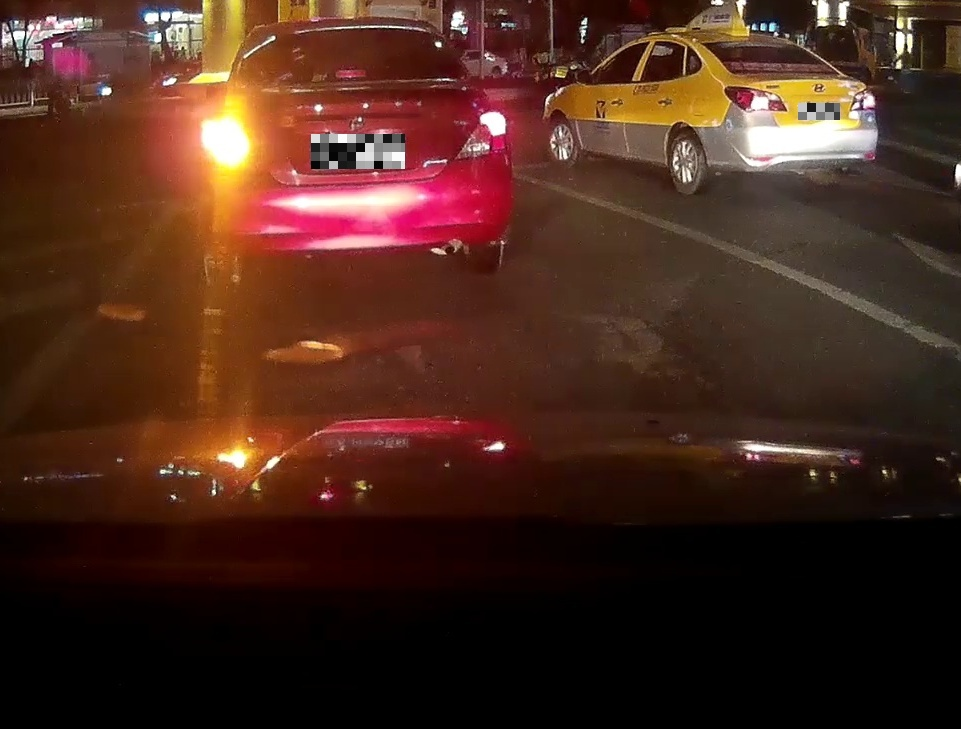L_light: (205, 121, 261, 173), (722, 85, 788, 113)
R_light: (455, 112, 509, 159), (849, 87, 877, 111)
T_light: (333, 68, 371, 79), (784, 67, 800, 72)
night-left: (199, 15, 513, 292)
night-no: (699, 30, 879, 198)
plate_1: (311, 134, 405, 169)
plate_2: (798, 103, 840, 120)
